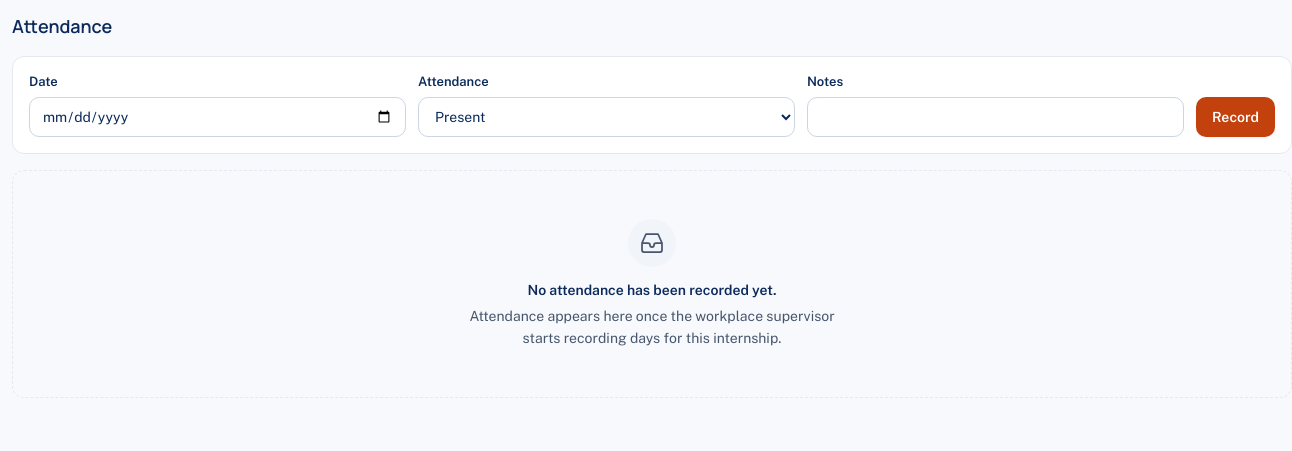
Test: AttendancePage › translates a duplicate-date conflict from its machine-readable code
The width and height of the screenshot is (1292, 451).
Type "2026-10-05" into the date field labelled "Date" at (218, 117), box 29,97 -> 406,137
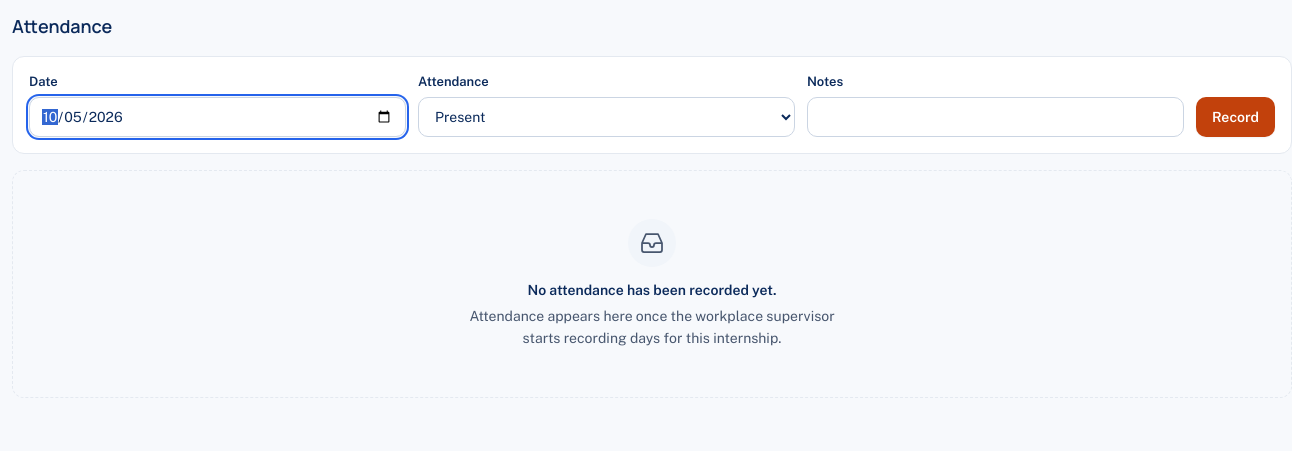
Click the button "Record" at (1236, 117), box 1196,97 -> 1275,137
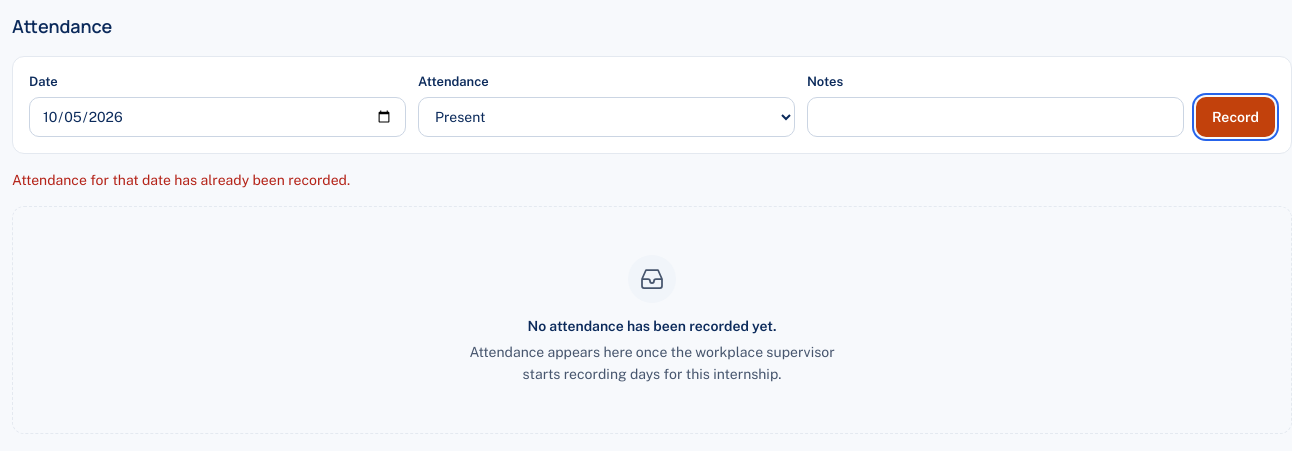
Result: the text "Attendance for that date has already been recorded." is shown at 12,172 -> 350,188
